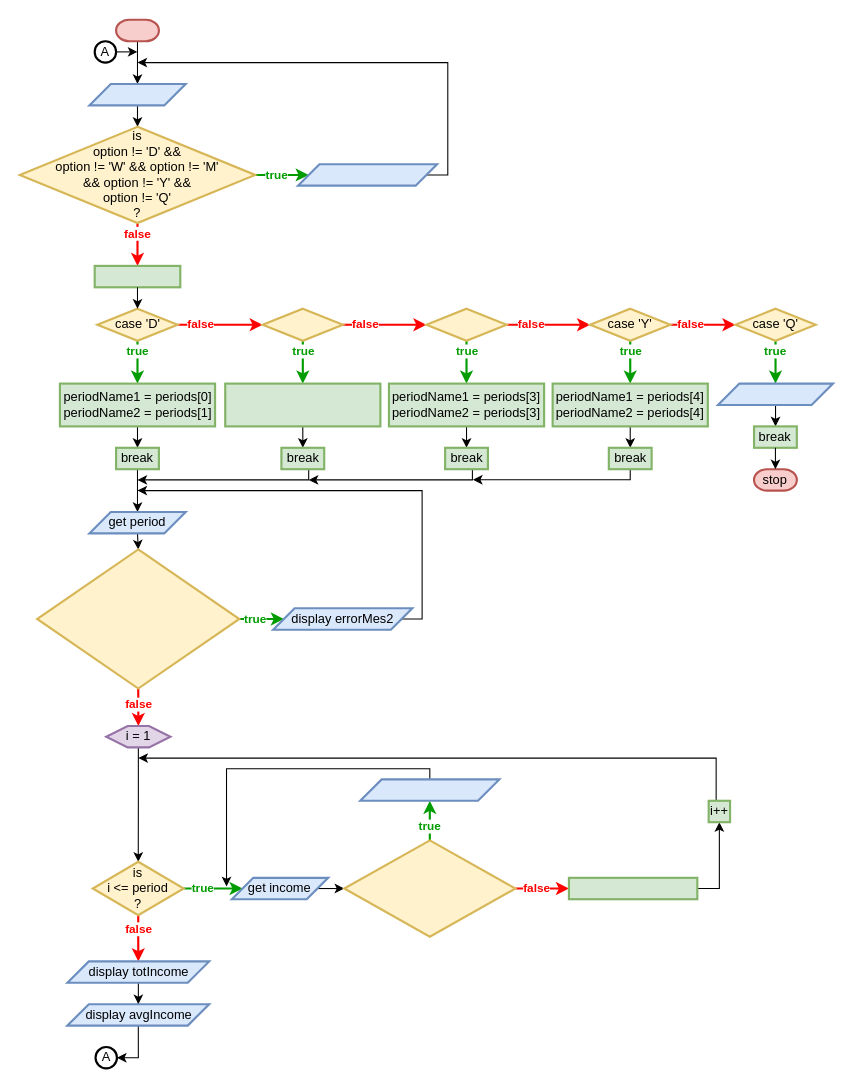
This 852x1087 diagram has some shape labels left out. The centre of each missing label's shape, as x and y in pixels:
case 'M': point 466,324
case 'W': point 302,324
display credits: point 775,394
display errorMes1: point 367,174
display errorMes3: point 429,789
get option: point 137,94
is scanf("%d", &period) != 1 || period <= 1 || getchar() != '\n' ?: point 138,618
is scanf("%f", &income) != 1 || income <= 0 ?: point 429,888
periodName1 = periods[2] periodName2 = periods[2]: point 302,404
start: point 136,30
switch(option): point 137,276
totIncome += income: point 632,888
